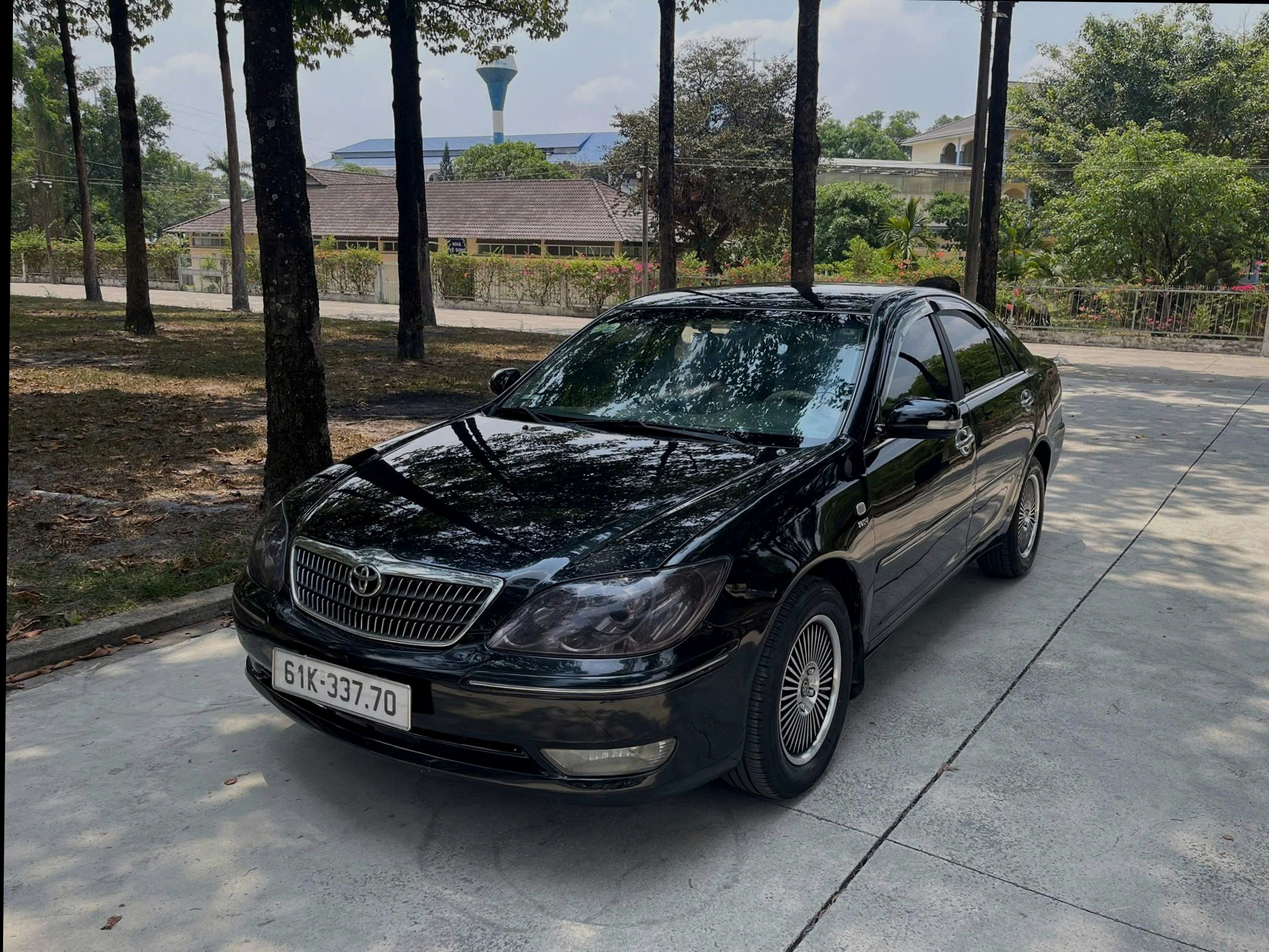Bien-so: (270, 648, 413, 727)
